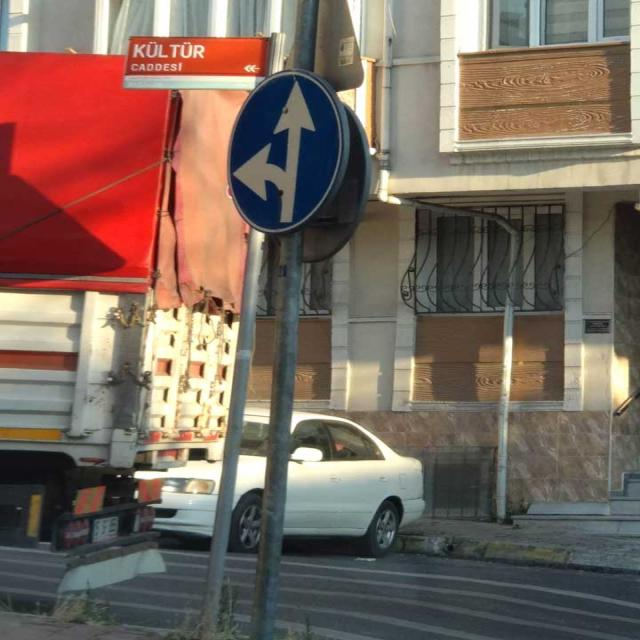ilerisol: (228, 70, 348, 232)
